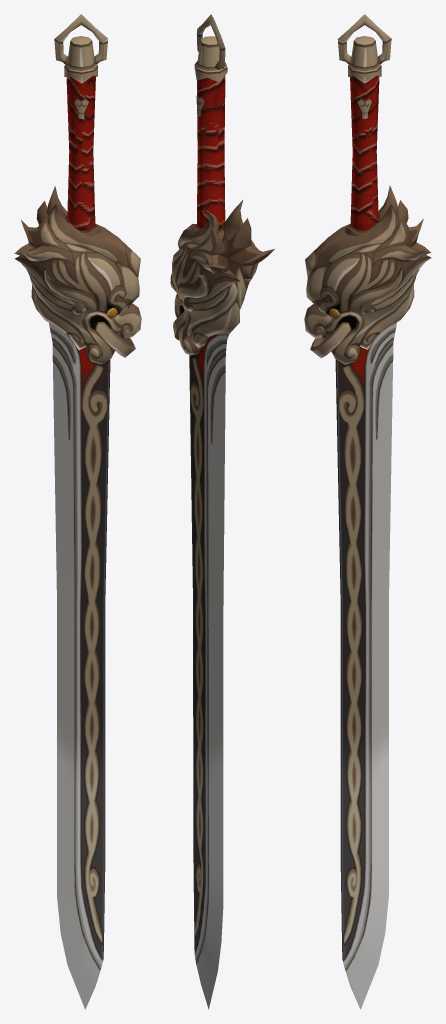
File: lionsroar.fbx
3 views of the same model, side by side, from view 1: azimuth 90°, elevation 25°; view 2: azimuth 210°, elevation 25°; view 3: azimuth 270°, elevation 25° (orthographic).
Parts seen in each view (by area): view 1: Lions Roar 2_mesh; view 2: Lions Roar 2_mesh; view 3: Lions Roar 2_mesh.
Part boxes in pixels (<box>): Lions Roar 2_mesh: <box>14,14,141,1009</box>; Lions Roar 2_mesh: <box>170,14,274,1009</box>; Lions Roar 2_mesh: <box>304,14,431,1009</box>.
Bounding box in the file's own units: 0.0564 × 0.7936 × 0.092.
